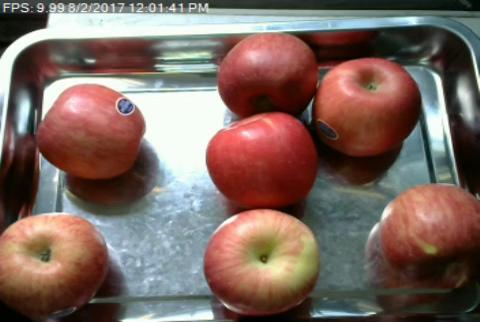apple: (204, 210, 321, 316), (0, 214, 108, 318), (312, 60, 422, 157), (382, 183, 480, 290), (207, 114, 316, 209), (39, 83, 144, 180), (221, 34, 317, 117)
